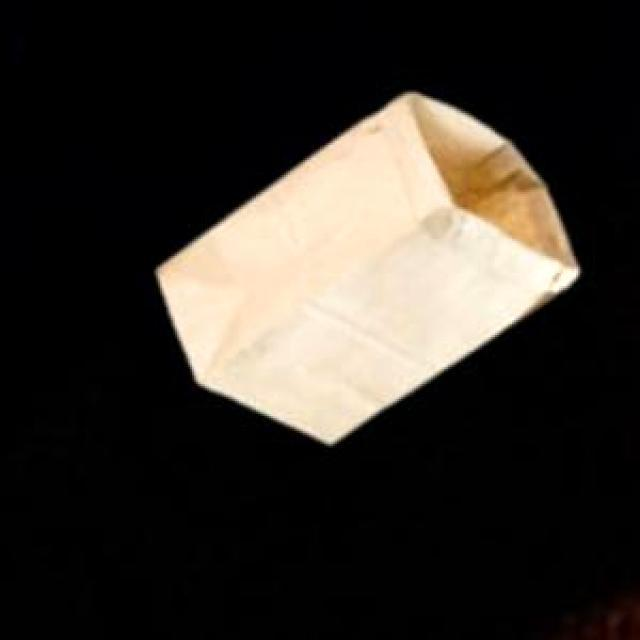Paper_Bag: (154, 90, 576, 440)
